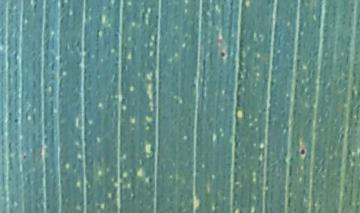tarspot: (296, 139, 311, 162), (218, 45, 230, 63)
